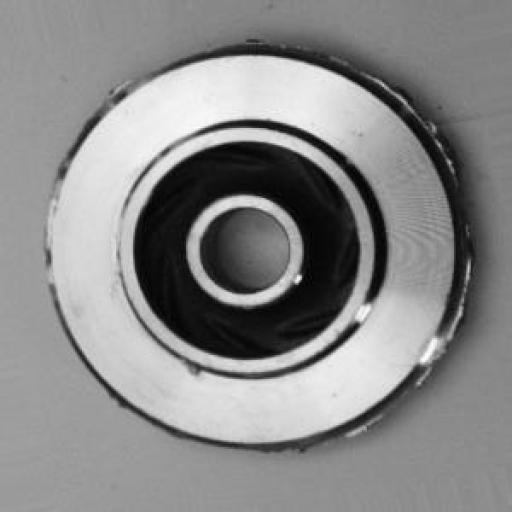defect: (32, 19, 499, 473)
